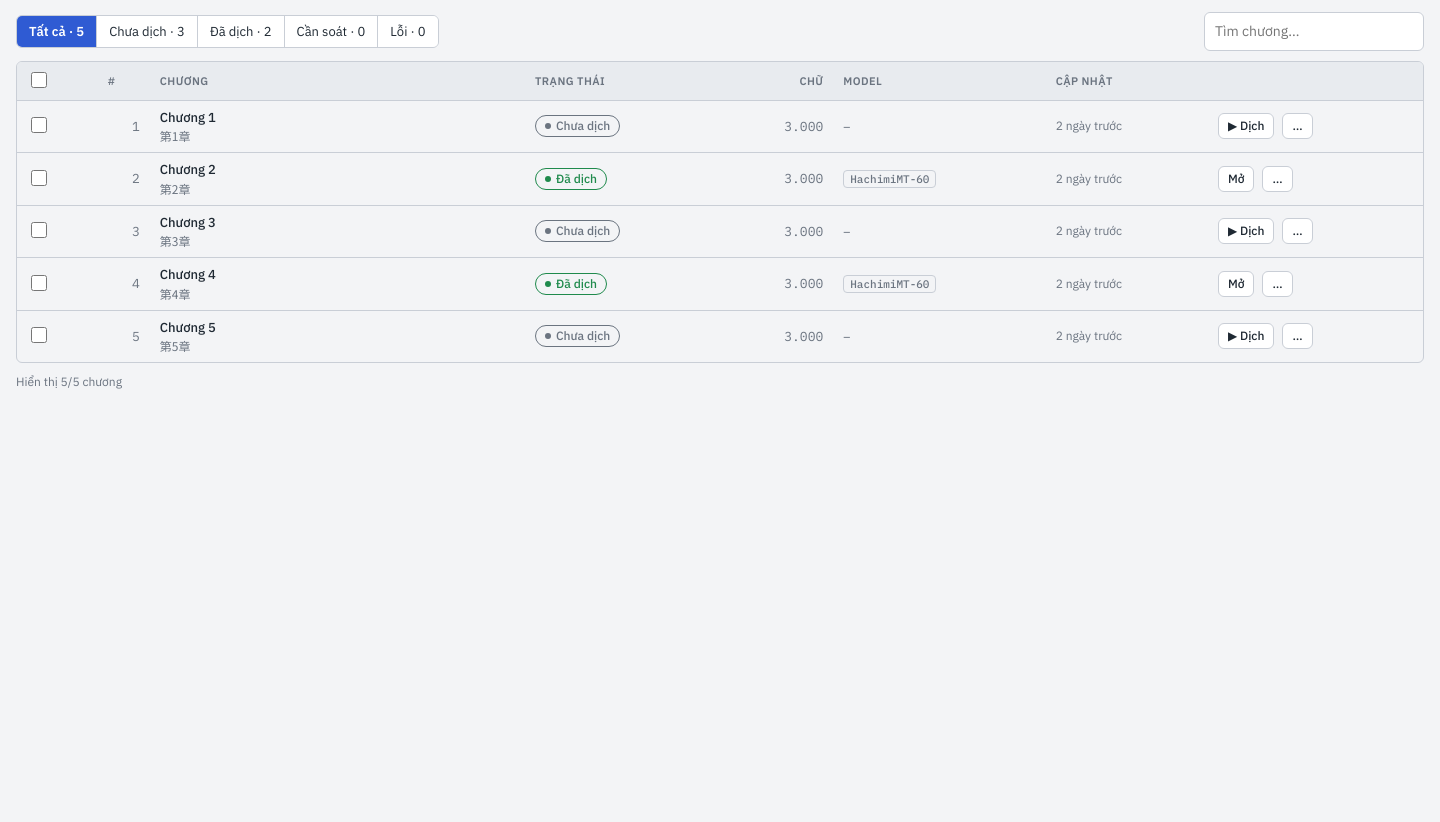
Scenario: dịch 5 chương đã chọn thì báo bỏ qua chương đã dịch
Click the checkbox named "Chọn chương 1".
click(39, 125)  # box [31,117,47,133]
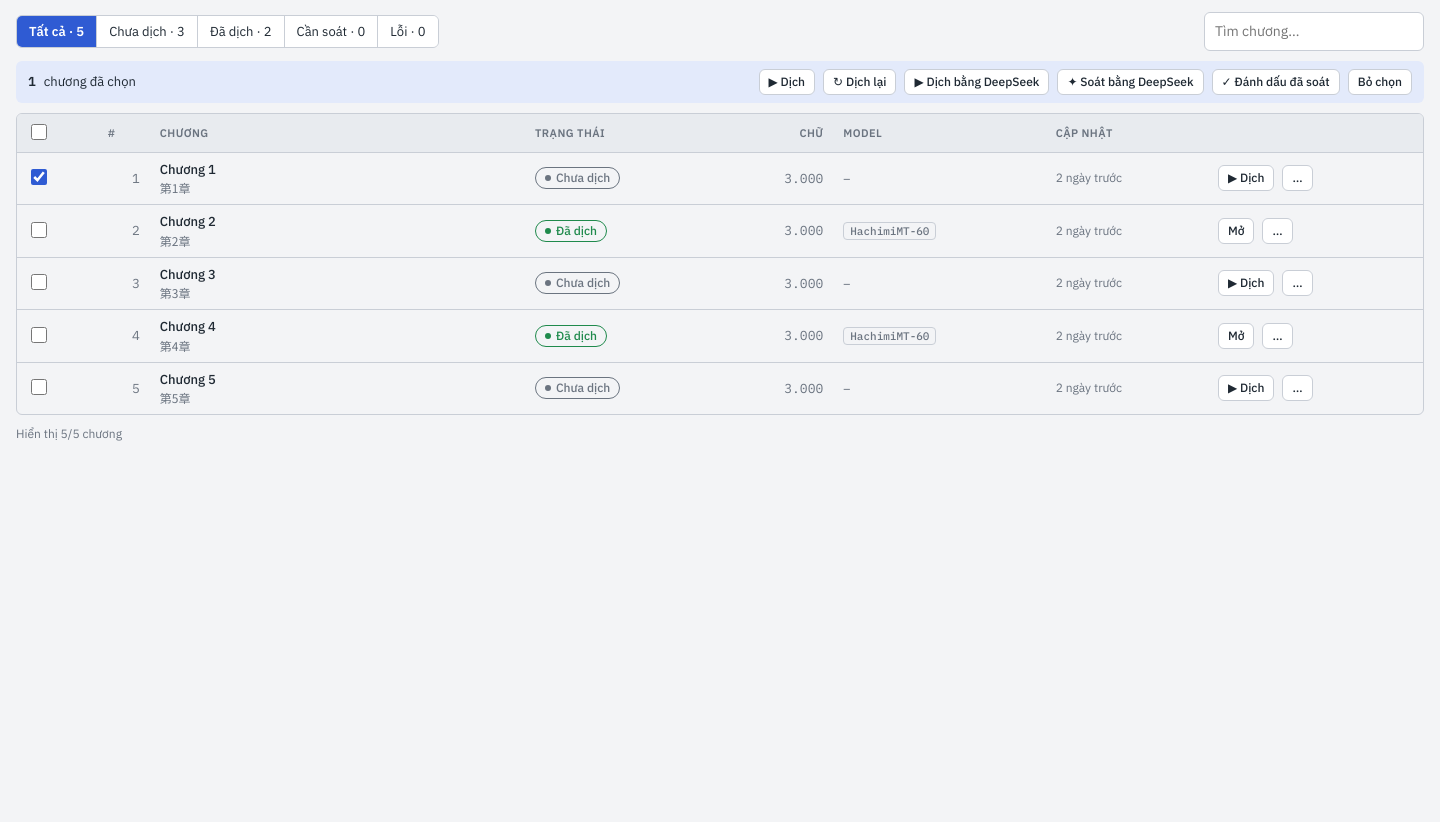
Click the checkbox named "Chọn chương 2".
click(39, 230)  # box [31,222,47,238]
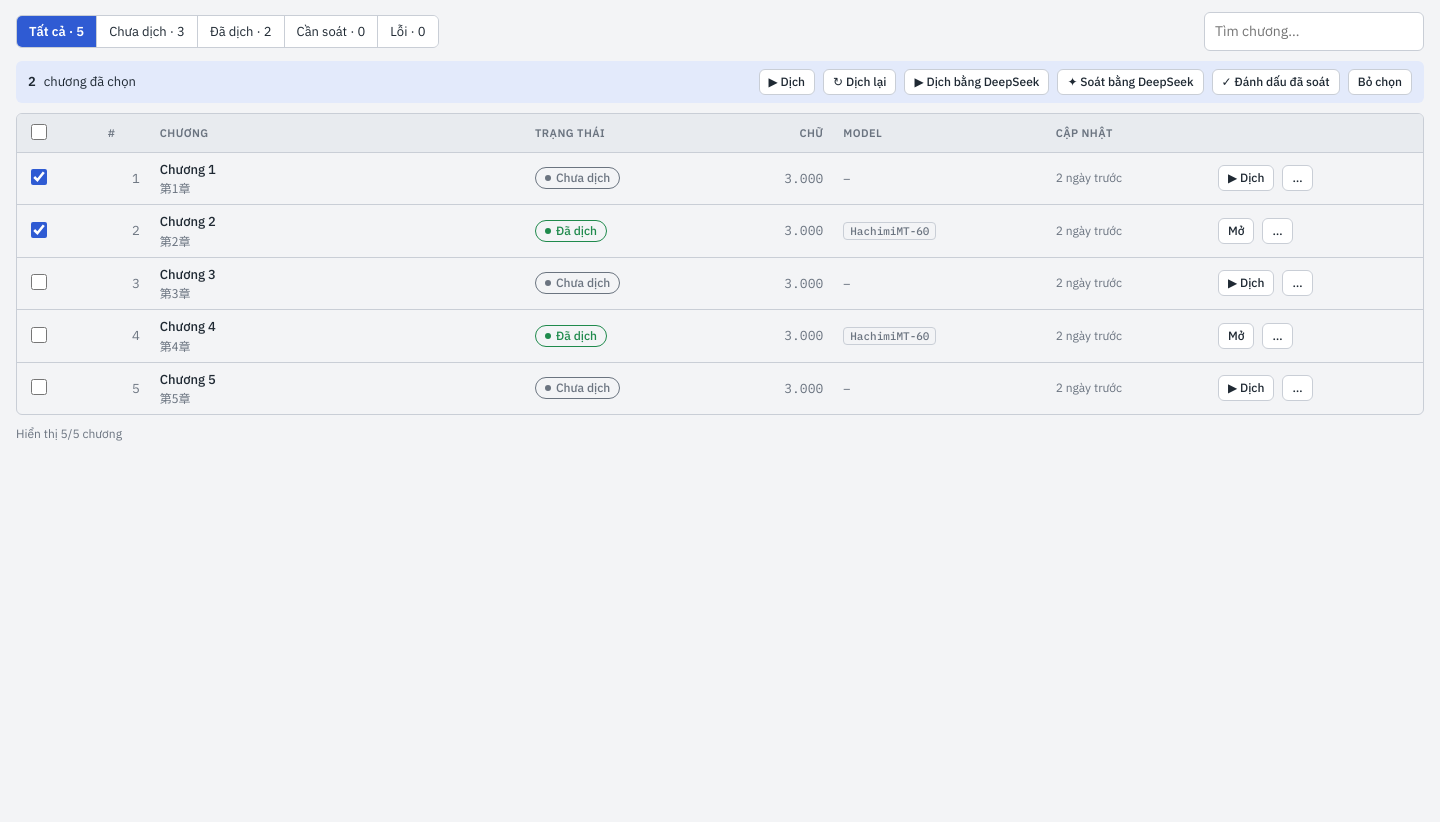
Click the checkbox named "Chọn chương 3".
click(39, 282)  # box [31,274,47,290]
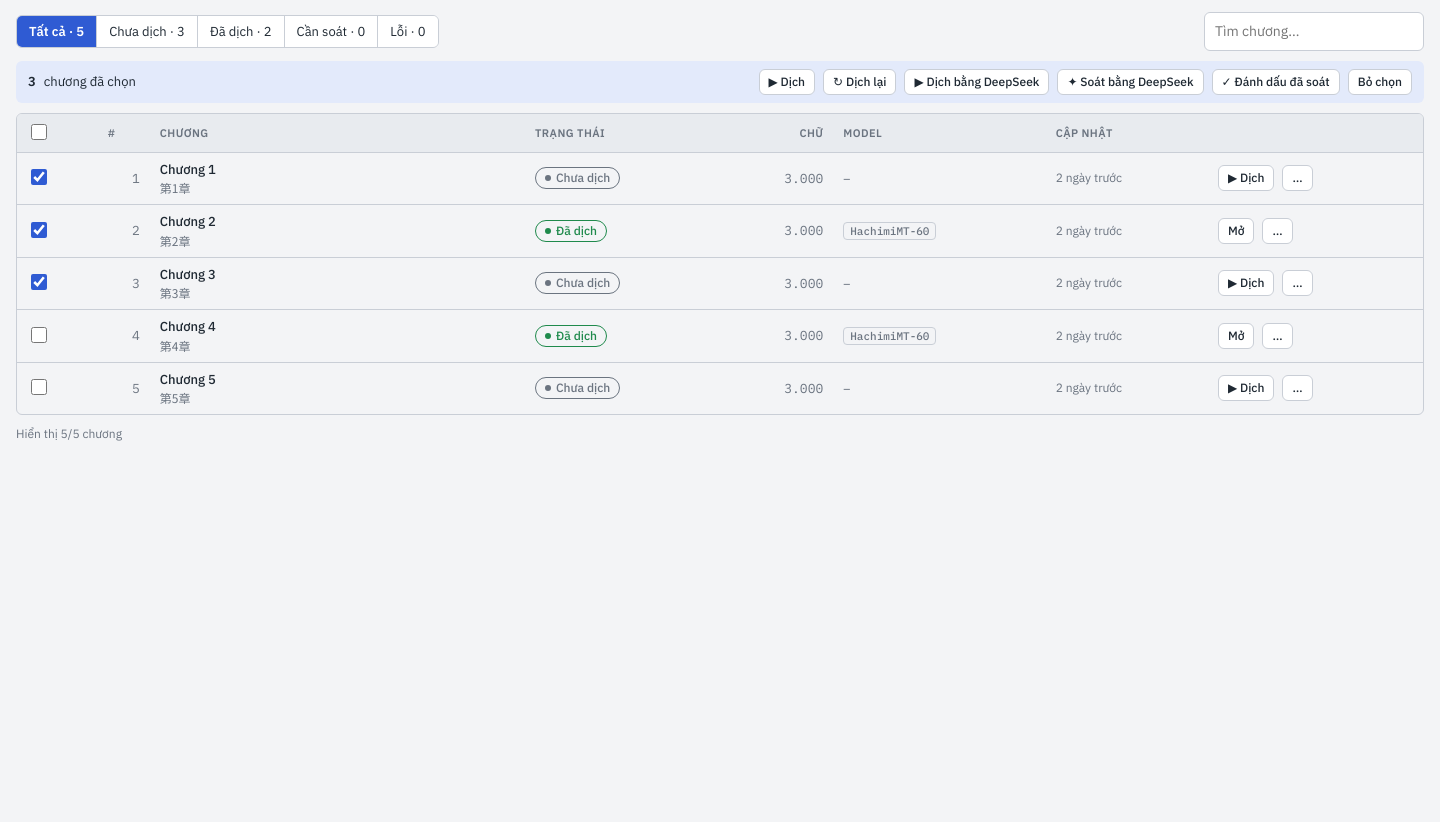
Click the checkbox named "Chọn chương 4".
click(39, 334)  # box [31,326,47,342]
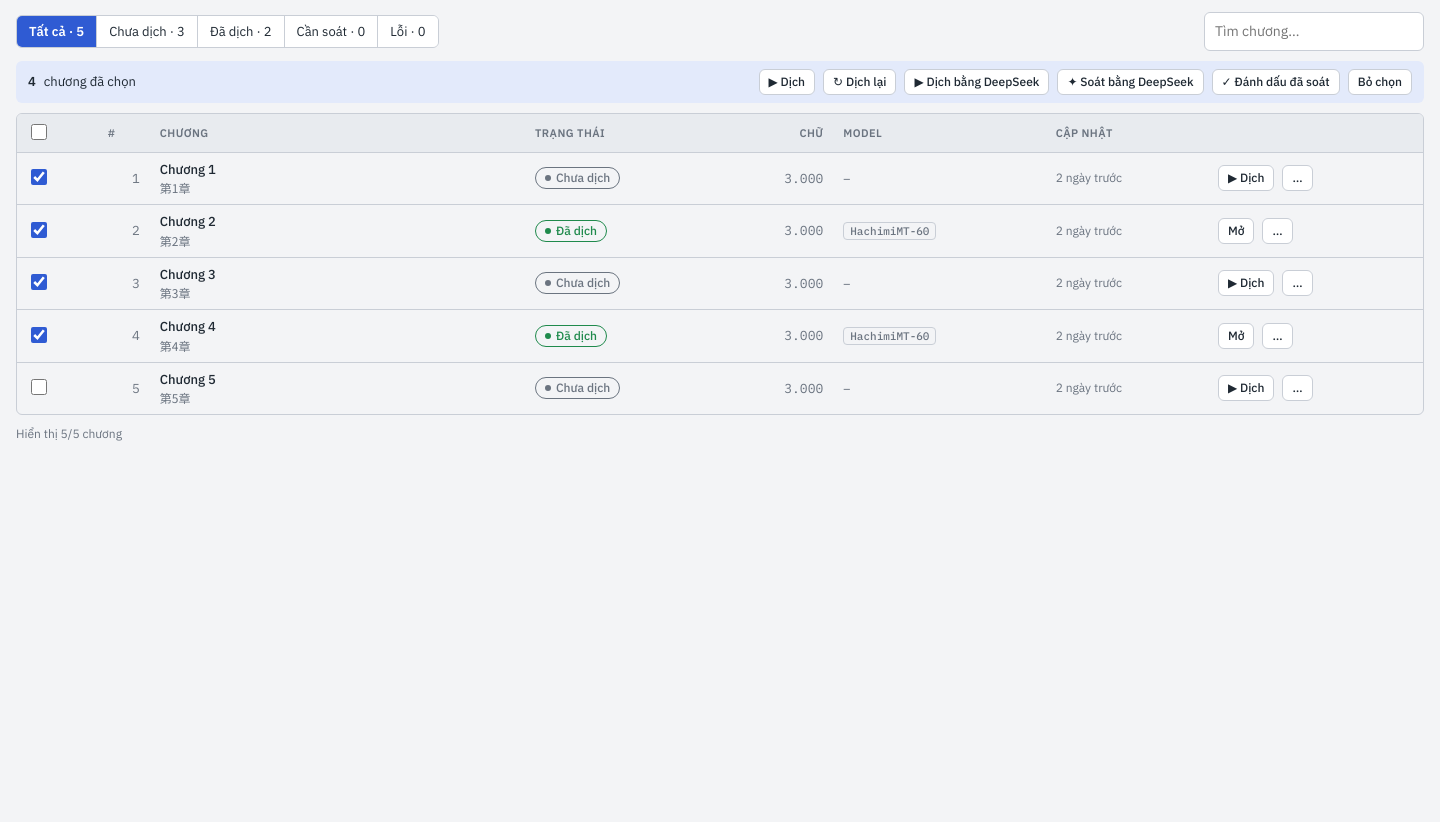
Click the checkbox named "Chọn chương 5".
click(39, 387)  # box [31,379,47,395]
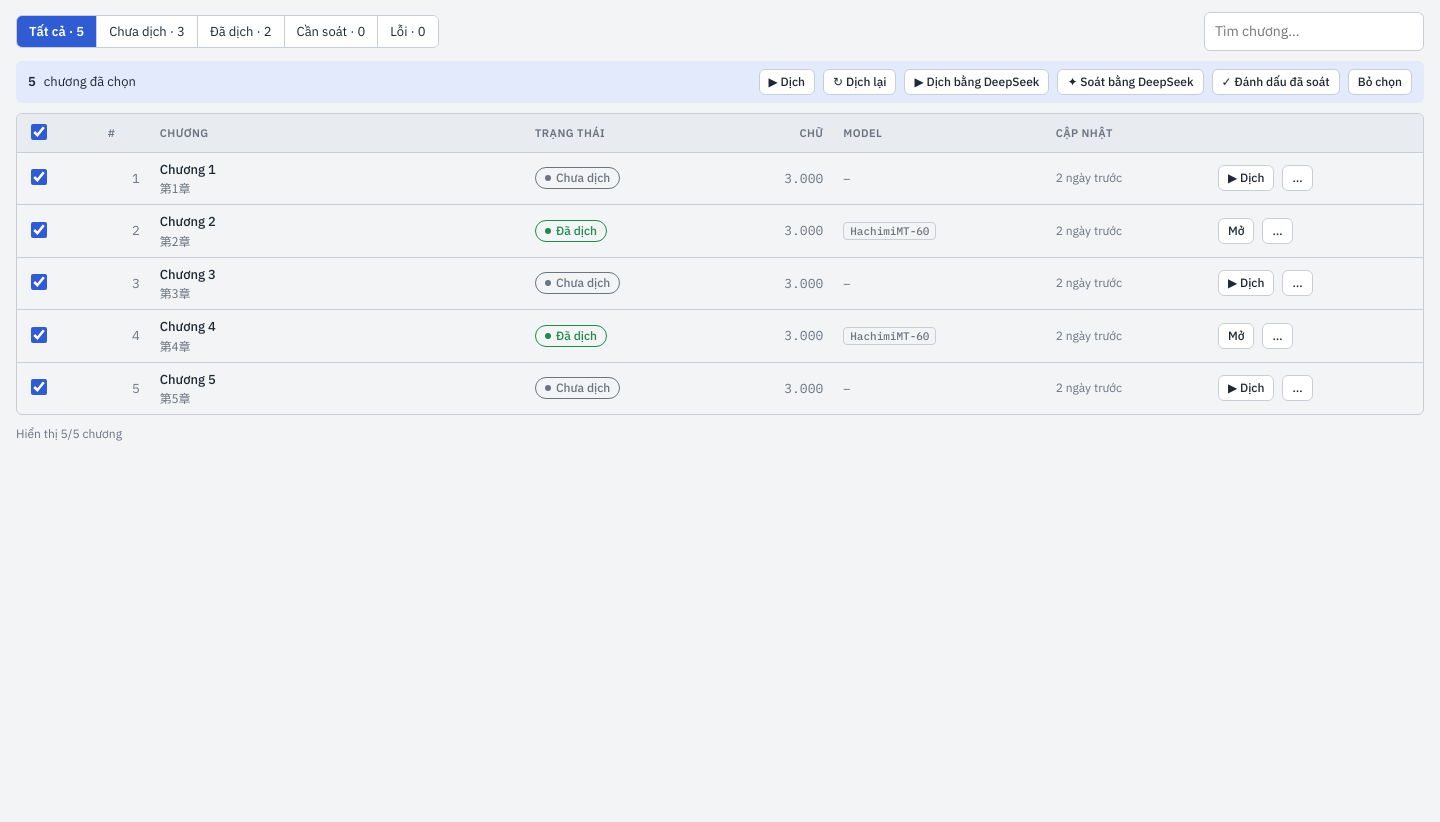
Click the button "▶ Dịch" in the row of "chương đã chọn".
click(787, 82)  # box [759,69,815,95]
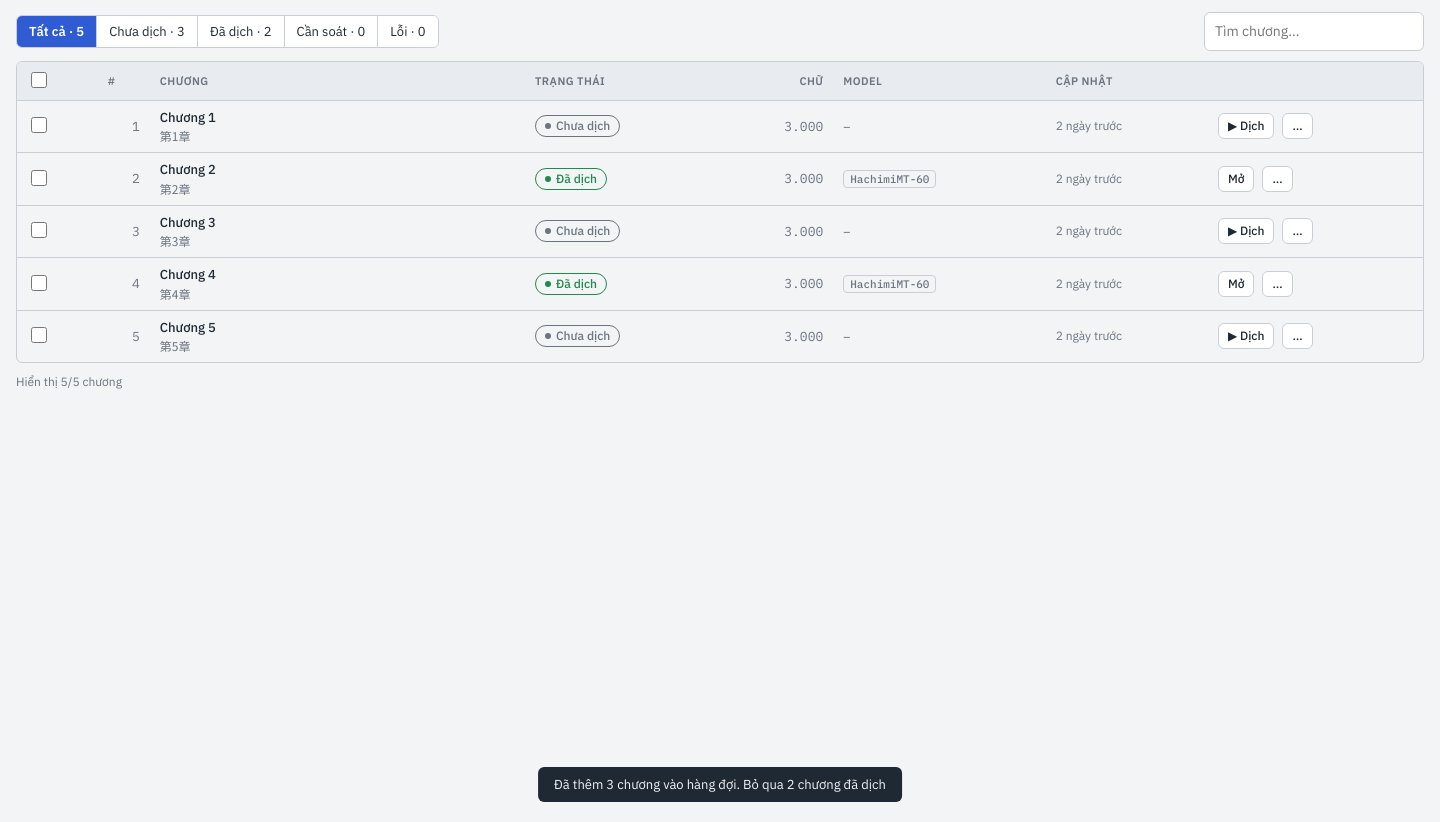
Result: the text "Đã thêm 3 chương vào hàng đợi. Bỏ qua 2 chương đã dịch" is shown at [554,774,886,794]
